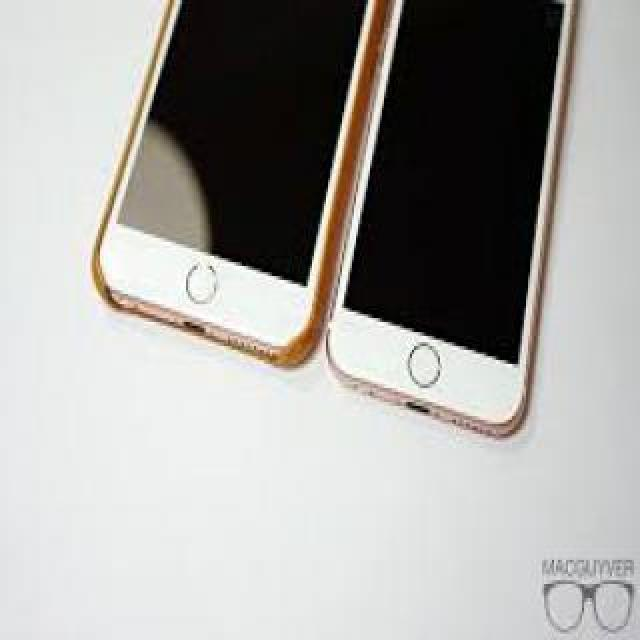smart phone: (345, 0, 572, 450), (88, 0, 335, 395)
